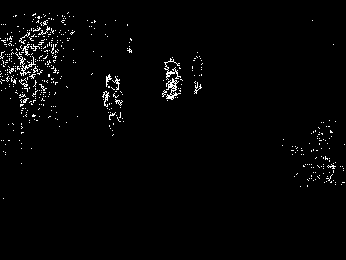person: (103, 73, 124, 138), (190, 50, 205, 96)
